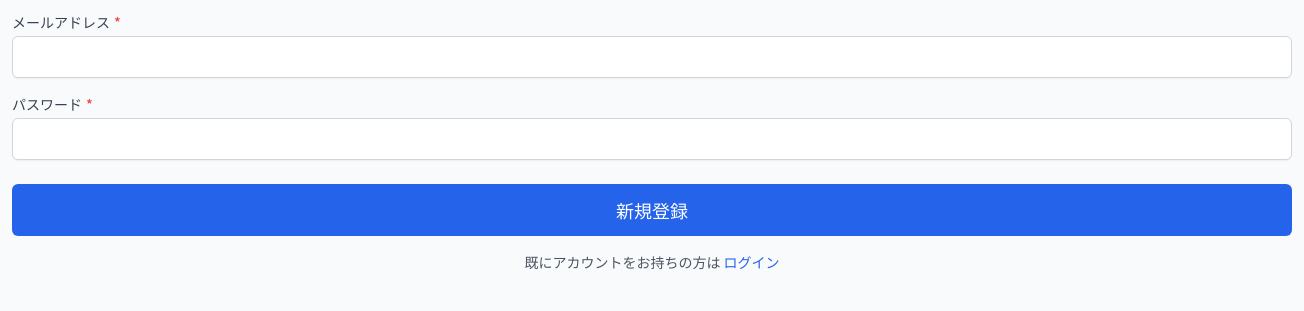
Scenario: RegisterForm › 既存メールアドレス（409）のエラーが適切に表示される（Requirement 1.3）
In the field labelled "メールアドレス*": (652,57) [12,36,1292,78], type "existing@example.com"
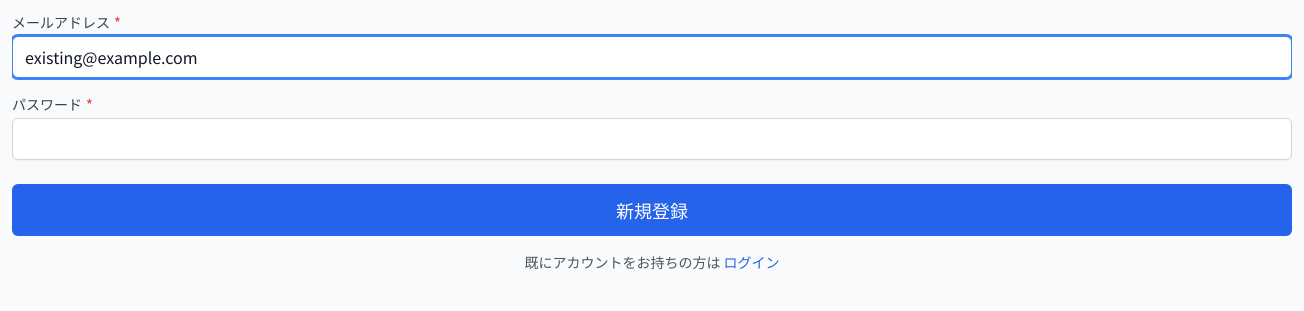
In the password field labelled "パスワード*": (652,139) [12,118,1292,160], type "password123"
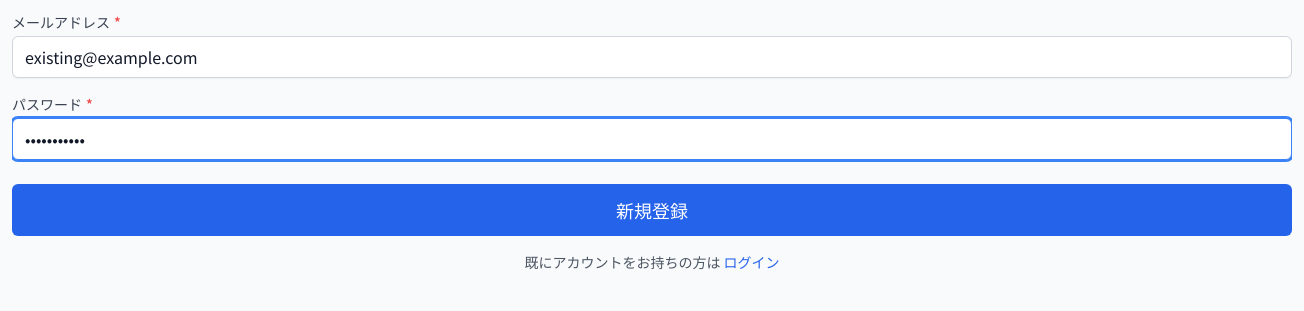
Click the button "新規登録": (652,210) [12,184,1292,236]
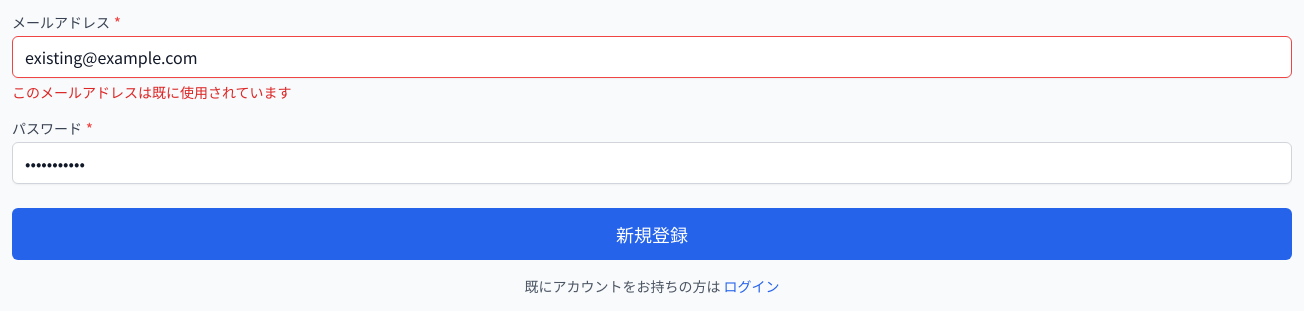
Now the text "このメールアドレスは既に使用されています" is shown, box [12,82,292,102]
